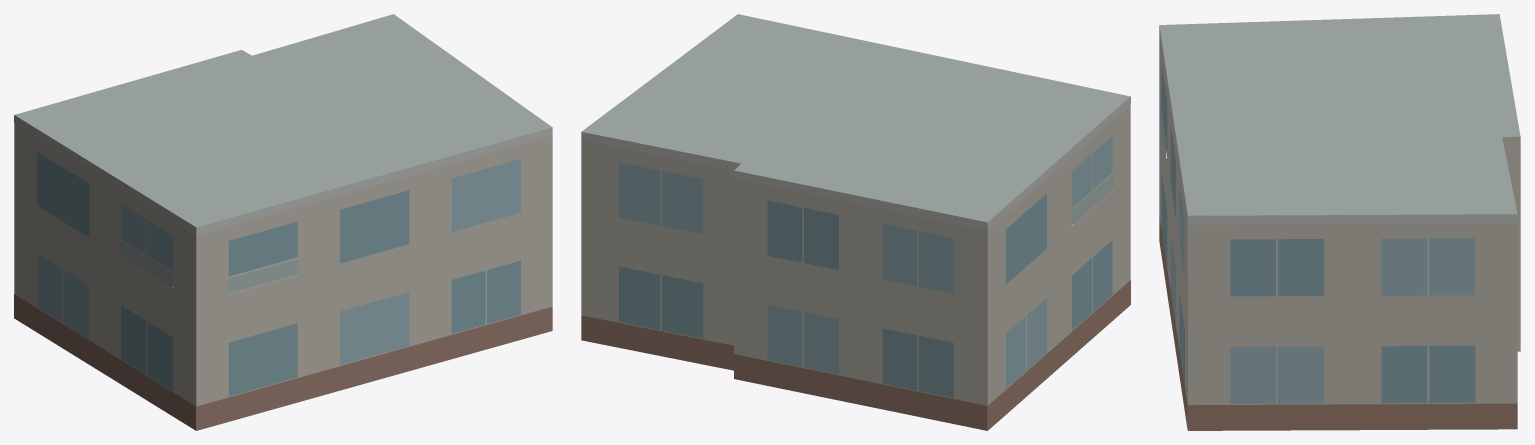
The model's file is survey-upis-32655073.glb.
3 views of the same model, side by side, from view 1: azimuth 30°, elevation 25°; view 2: azimuth 150°, elevation 25°; view 3: azimuth 270°, elevation 25° (orthographic). The views are drawn at different scales.
Visible parts, largest first — view 1: survey-upis-32655073.tmp; view 2: survey-upis-32655073.tmp; view 3: survey-upis-32655073.tmp.
Boxes of the visible parts, x1=… form: survey-upis-32655073.tmp: x1=14, y1=14, x2=552, y2=430; survey-upis-32655073.tmp: x1=581, y1=14, x2=1130, y2=430; survey-upis-32655073.tmp: x1=1159, y1=14, x2=1520, y2=430.
Size of the model in its own units: 12.28 by 6.1 by 9.3.
